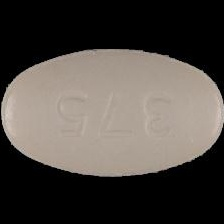42254-221: (0, 0, 224, 224)
